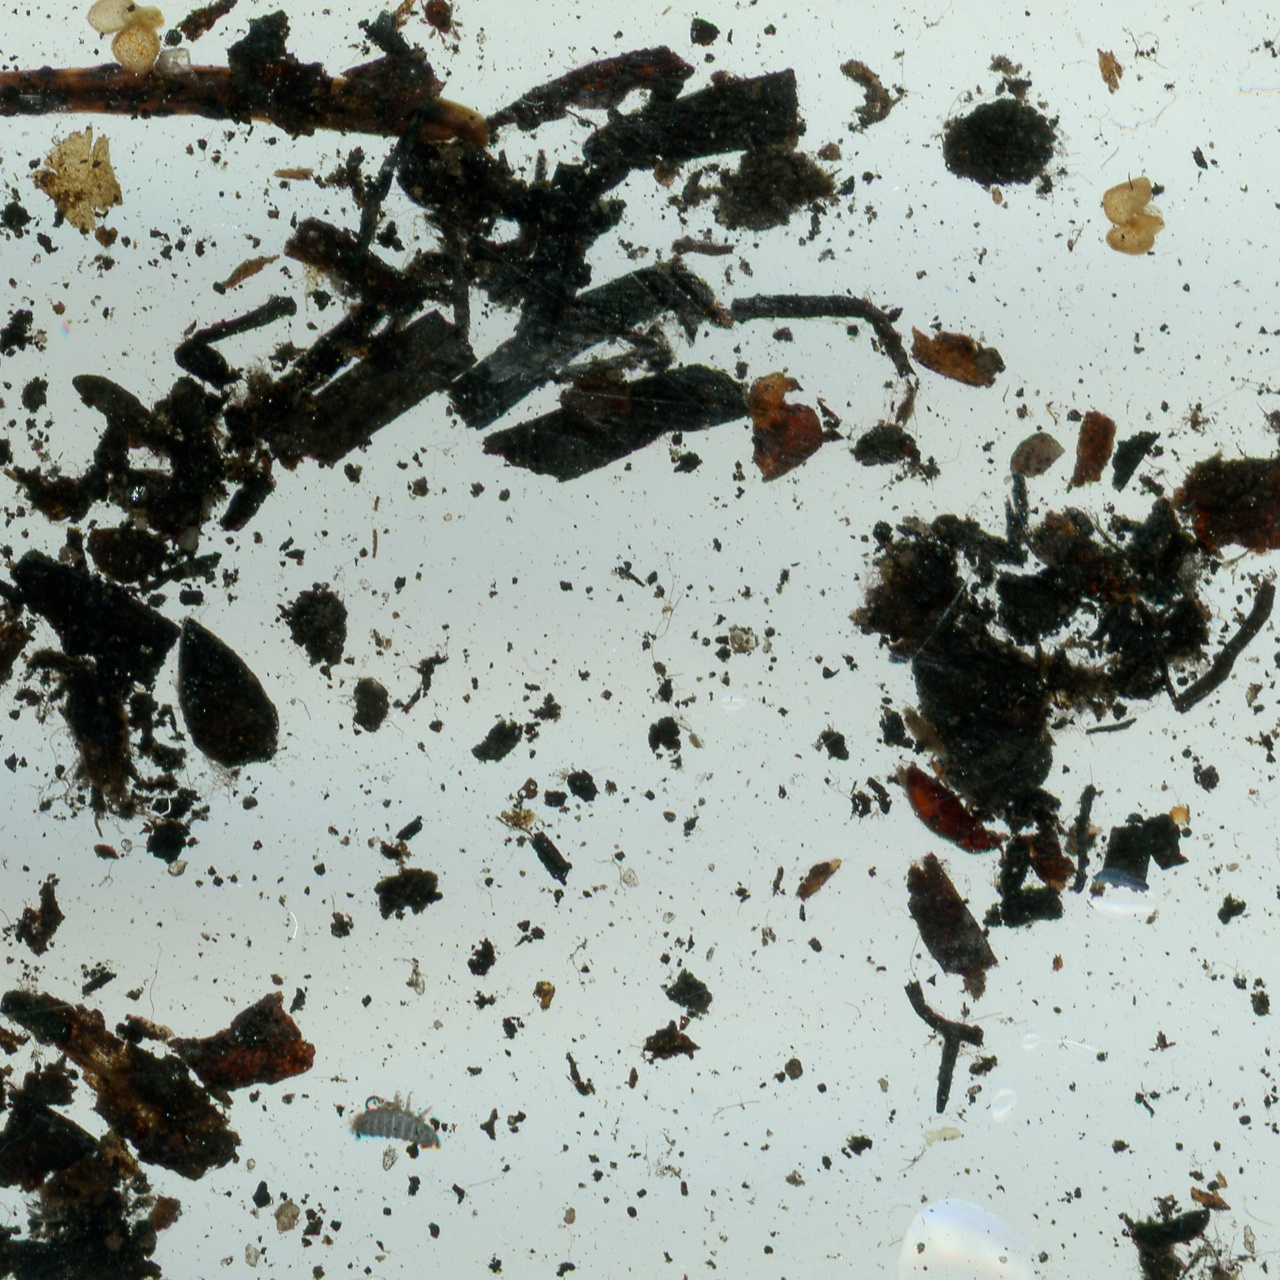arthropod: (872, 725, 1035, 893), (347, 1088, 444, 1154), (407, 0, 477, 59)
